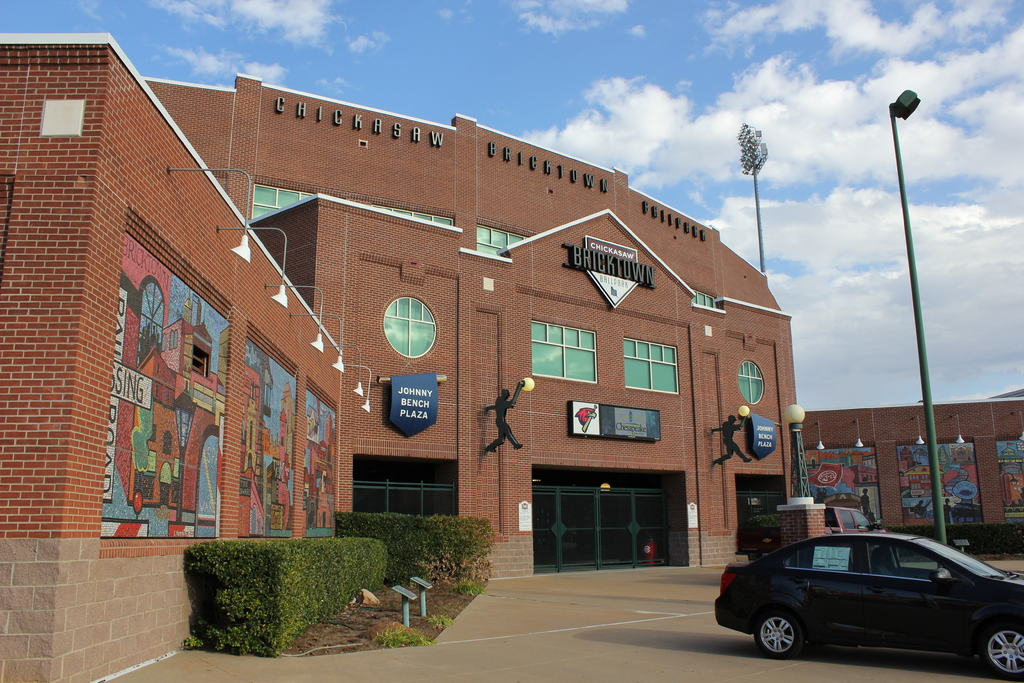Car: (724, 529, 1011, 672)
